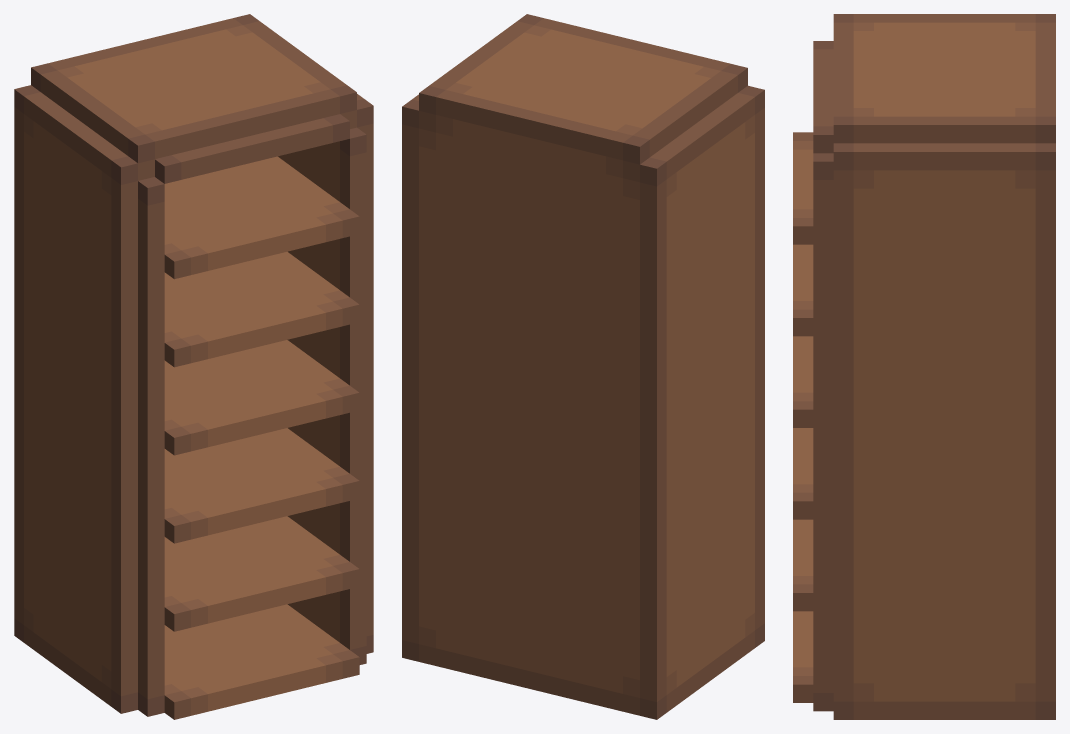
The model's file is Interior_Furniture_Misc_Shelf_01.obj.
3 views of the same model, side by side, from view 1: azimuth 30°, elevation 25°; view 2: azimuth 150°, elevation 25°; view 3: azimuth 270°, elevation 25° (orthographic). The views are drawn at different scales.
Bounding box in the file's own units: 1.5 × 3.2 × 1.3.
Materials: 1 (1 with a texture image).
